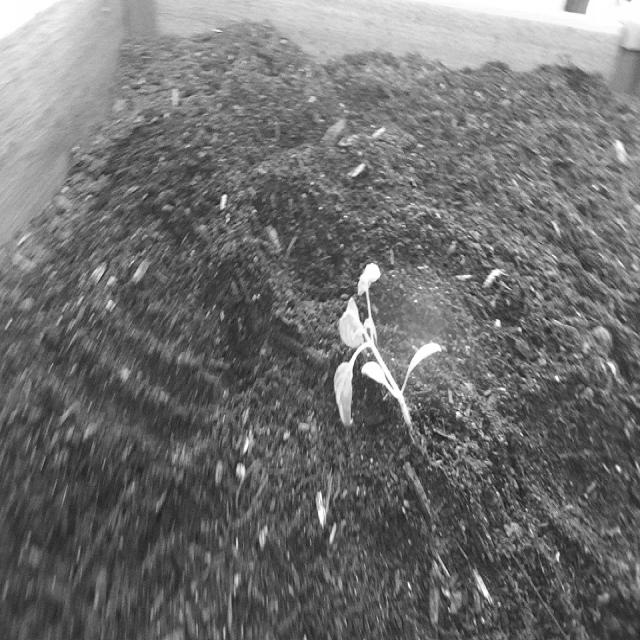Healthy: (328, 257, 445, 443)
